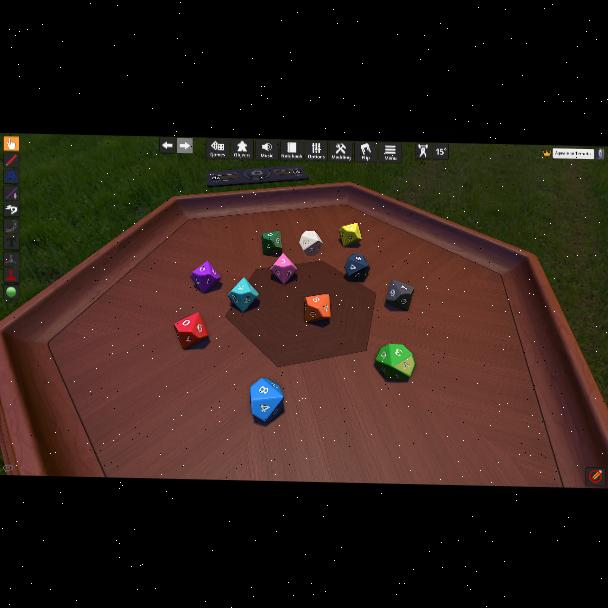d10: (250, 378, 284, 422), (376, 342, 415, 380), (174, 312, 208, 350), (229, 277, 259, 312), (190, 260, 220, 293), (385, 280, 413, 310), (304, 293, 332, 323), (270, 253, 296, 285), (344, 253, 370, 281), (339, 222, 362, 248), (298, 230, 321, 256), (262, 230, 282, 256)
